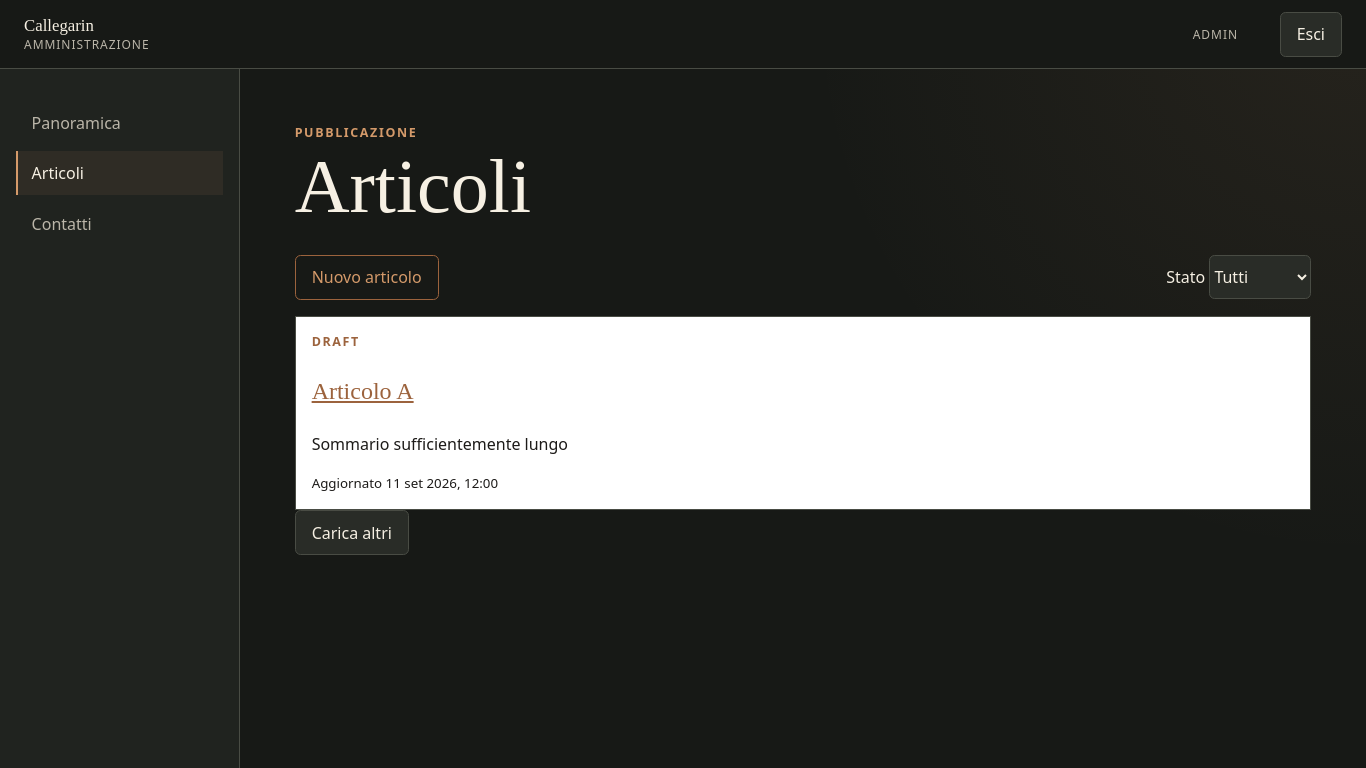
Scenario: article console › auto-chains sparse pages and deduplicates explicit load-more results
Expected: the heading "Articolo A" is shown, left=312, top=378, right=414, bottom=404
What coordinates should you click on to do the following:
click the button "Carica altri"
I would click on:
 (352, 533)
Its box is left=295, top=510, right=409, bottom=555.
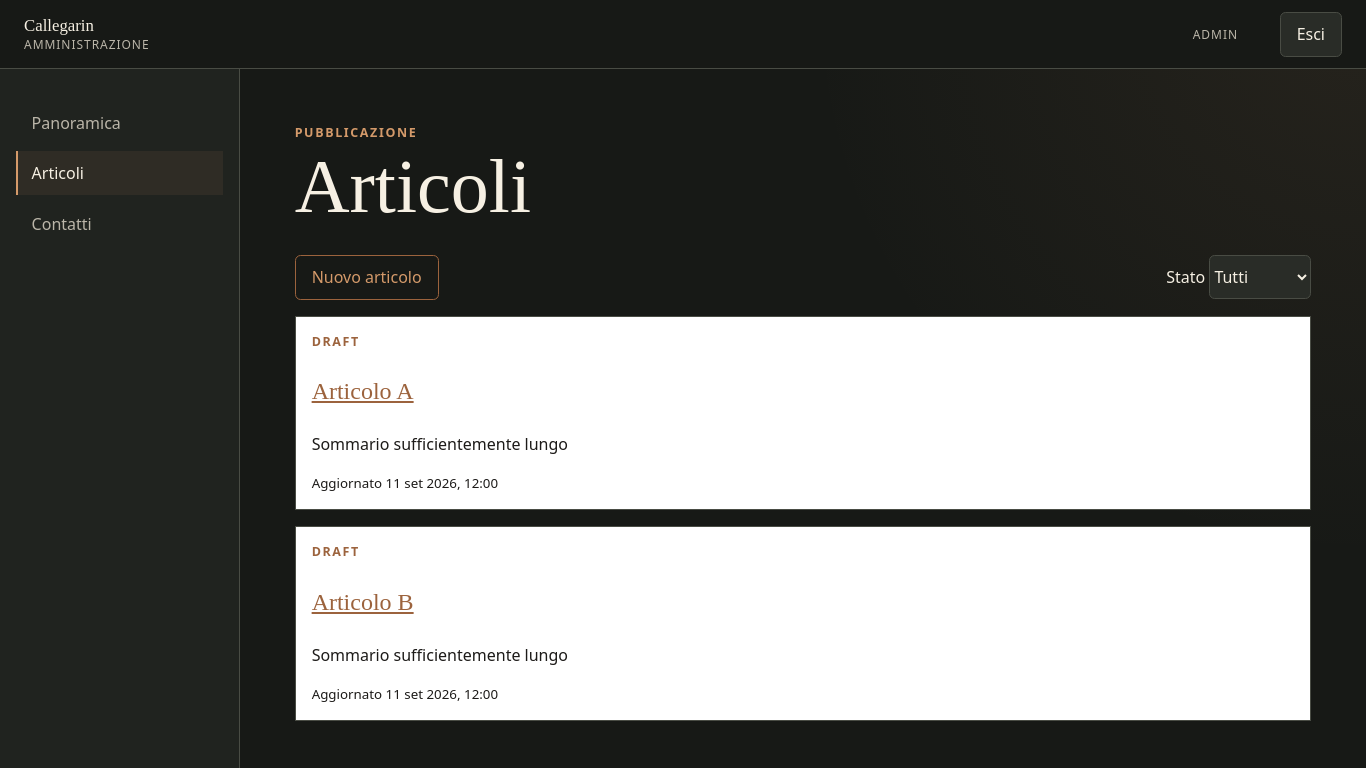
Expected: the number of headings "Articolo A" is 1, left=312, top=378, right=414, bottom=404
Expected: the heading "Articolo B" is shown, left=312, top=589, right=414, bottom=615
